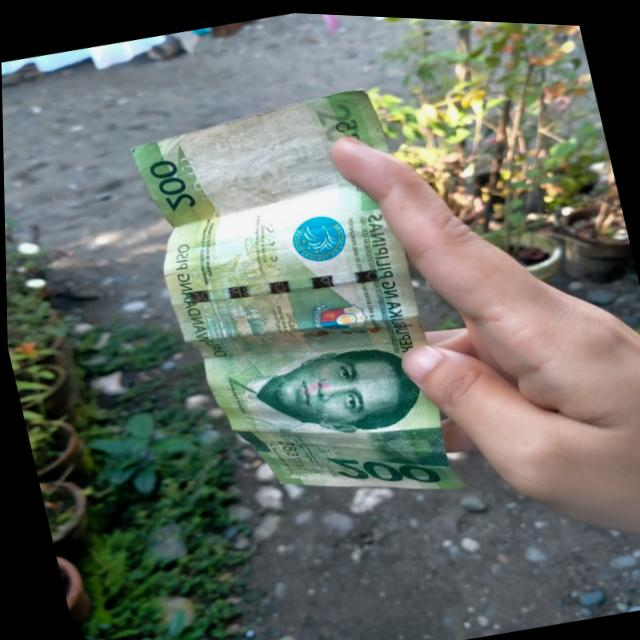concealed_value: (370, 413, 445, 475)
security_thread: (170, 243, 402, 321)
see_through_mark: (175, 143, 229, 224)
value: (326, 432, 437, 498)
